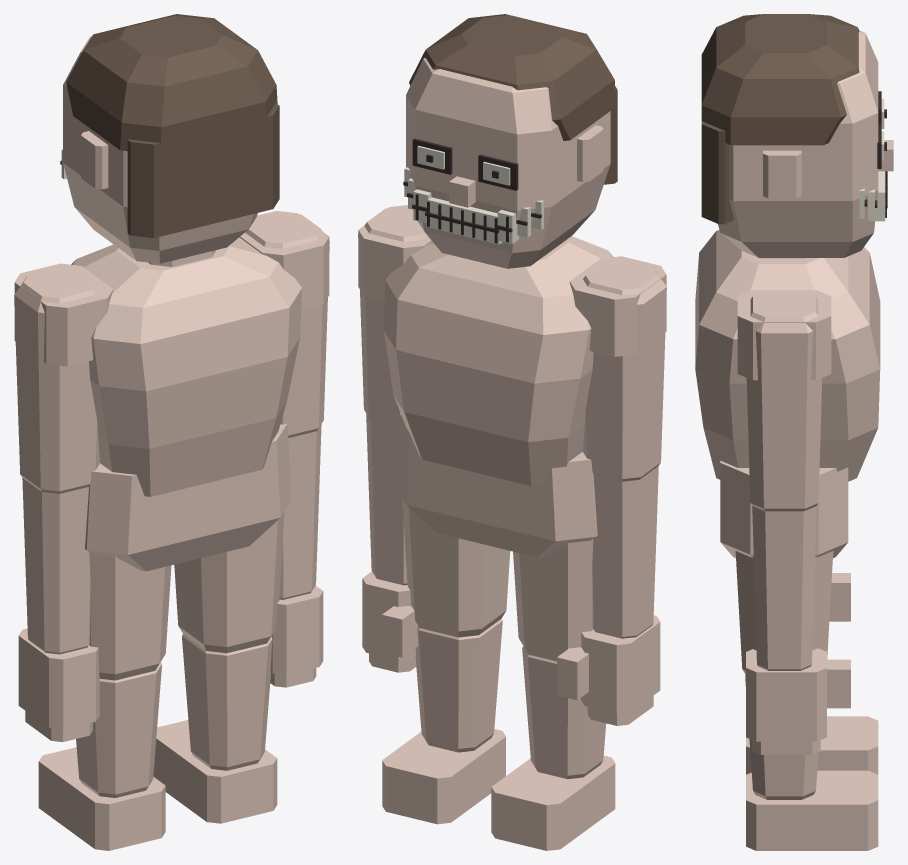
Rendered from titan.glb.
3 renders of one model, left to right at view 1: azimuth 30°, elevation 25°; view 2: azimuth 150°, elevation 25°; view 3: azimuth 270°, elevation 25°, orthographic. The views are drawn at different scales.
Parts seen in each view (by area): view 1: ti_spine, ti_head, ti_shin_R, ti_pelvis, ti_shin_L, ti_upperarm_L, ti_forearm_L, ti_thigh_R, ti_thigh_L, ti_hand_L, ti_upperarm_R, ti_forearm_R (+1 smaller); view 2: ti_spine, ti_head, ti_shin_R, ti_shin_L, ti_pelvis, ti_upperarm_L, ti_forearm_L, ti_thigh_R, ti_hand_L, ti_thigh_L, ti_forearm_R, ti_upperarm_R (+1 smaller); view 3: ti_head, ti_spine, ti_upperarm_R, ti_shin_R, ti_forearm_R, ti_hand_R, ti_pelvis, ti_thigh_R, ti_shin_L, ti_hand_L.
Boxes of the visible parts, x1,y1,x2,y2 form: ti_spine: (14,211,329,496); ti_head: (60,14,279,263); ti_shin_R: (153,634,277,823); ti_pelvis: (85,423,291,571); ti_shin_L: (38,662,165,850); ti_upperarm_L: (14,267,99,493); ti_forearm_L: (22,478,90,654); ti_thigh_R: (174,512,284,653); ti_thigh_L: (89,552,171,680); ti_hand_L: (18,628,99,741); ti_upperarm_R: (245,212,329,437); ti_forearm_R: (279,424,321,599); ti_spine: (358,205,666,485); ti_head: (403,14,617,268); ti_shin_R: (382,619,505,824); ti_shin_L: (491,646,615,850); ti_pelvis: (395,413,597,557); ti_upperarm_L: (582,260,666,481); ti_forearm_L: (592,466,658,638); ti_thigh_R: (402,499,510,637); ti_hand_L: (557,615,660,725); ti_thigh_L: (513,539,593,661); ti_forearm_R: (366,413,407,585); ti_upperarm_R: (358,206,427,426); ti_head: (701,14,893,257); ti_spine: (695,229,880,481); ti_upperarm_R: (746,291,822,511); ti_shin_R: (745,674,878,850); ti_forearm_R: (752,506,816,670); ti_hand_R: (746,648,850,754); ti_pelvis: (720,460,848,558); ti_thigh_R: (735,551,833,674); ti_shin_L: (746,716,878,774); ti_hand_L: (829,573,850,621).
Bounding box in the file's own units: 0.392 × 1 × 0.2325.
